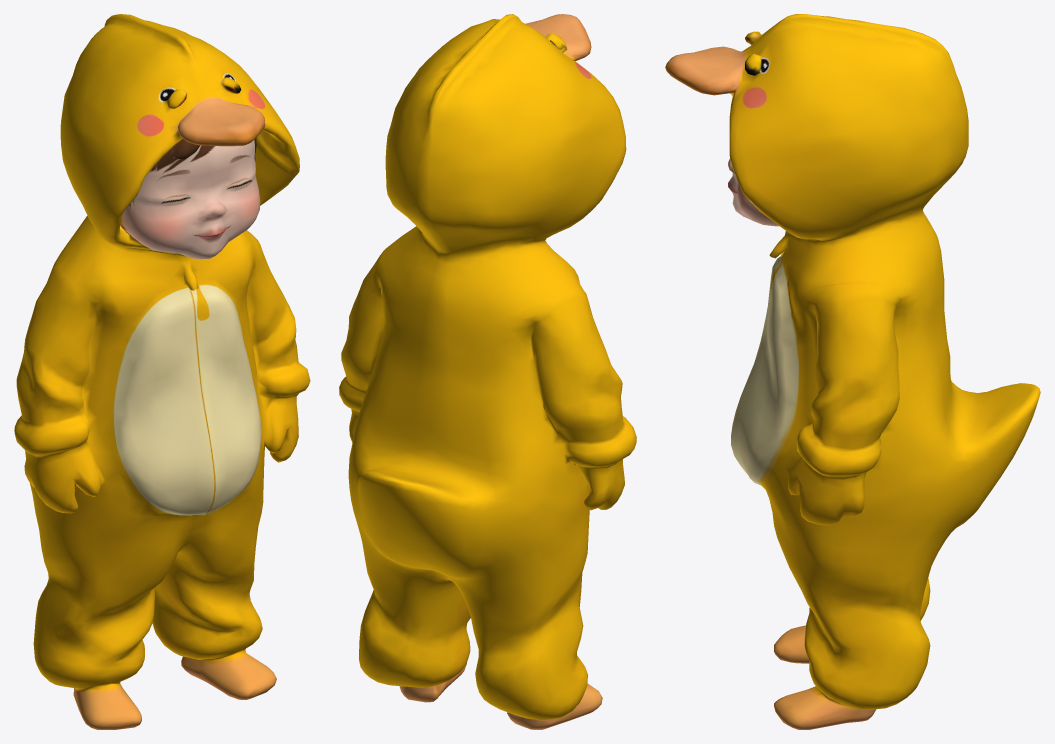
File: pip.glb
The picture shows the model from 3 angles, left to right: view 1: azimuth 30°, elevation 25°; view 2: azimuth 150°, elevation 25°; view 3: azimuth 270°, elevation 25°; orthographic projection.
Size of the model in its own units: 0.8337 by 1.91 by 0.9589.
Materials: 1 (1 with a texture image).
